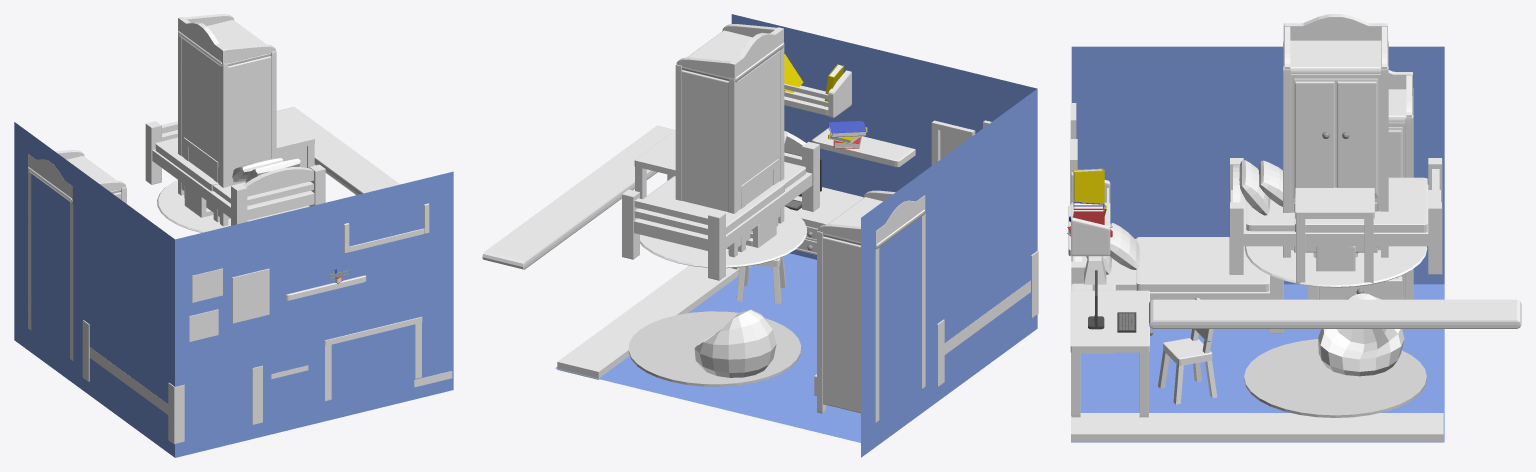
File: room.glb
The picture shows the model from 3 angles, left to right: view 1: azimuth 30°, elevation 25°; view 2: azimuth 150°, elevation 25°; view 3: azimuth 270°, elevation 25°; orthographic projection. The views are drawn at different scales.
Parts seen in each view (by area): view 1: Wall, Wardrobe, Bed, Wardrobe 1, Wood floor, Bed 1, Table, Picture 1.001, Carpet, Table 1, Picture 2.001, Wall bookshelf.001 (+3 smaller); view 2: Wall, Wardrobe, Floor, Wardrobe 1, Bed, Wood floor, Carpet 1, Wood floor 1, Seat 1, Carpet, Bed 1, Table (+7 smaller); view 3: Wall, Wardrobe, Floor, Bed, Wood floor, Wood floor 1, Bed 1, Carpet 1, Table 1, Wardrobe 1, Carpet, Table (+7 smaller).
Boxes of the visible parts, x1,y1,x2,y2 form: Wall: [14, 122, 453, 457]; Wardrobe: [178, 14, 276, 226]; Bed: [145, 121, 325, 225]; Wardrobe 1: [28, 150, 126, 360]; Wood floor: [276, 107, 400, 195]; Bed 1: [82, 320, 262, 444]; Table: [184, 114, 314, 222]; Picture 1.001: [232, 268, 269, 323]; Carpet: [157, 180, 309, 232]; Table 1: [324, 316, 422, 401]; Picture 2.001: [192, 268, 222, 302]; Wall bookshelf.001: [344, 203, 429, 253]; Wall: [731, 14, 1037, 457]; Wardrobe: [675, 24, 784, 257]; Floor: [555, 253, 860, 442]; Wardrobe 1: [814, 190, 925, 422]; Bed: [622, 131, 819, 280]; Wood floor: [482, 125, 675, 269]; Carpet 1: [628, 311, 801, 386]; Wood floor 1: [557, 265, 752, 379]; Seat 1: [694, 309, 776, 377]; Carpet: [640, 206, 806, 268]; Bed 1: [937, 250, 1038, 386]; Table: [634, 133, 778, 252]; Wall: [1071, 46, 1444, 284]; Wardrobe: [1283, 14, 1388, 257]; Floor: [1071, 284, 1444, 442]; Bed: [1229, 158, 1442, 274]; Wood floor: [1149, 299, 1521, 328]; Wood floor 1: [1071, 413, 1443, 442]; Bed 1: [1071, 223, 1283, 333]; Carpet 1: [1244, 339, 1426, 417]; Table 1: [1070, 290, 1153, 417]; Wardrobe 1: [1308, 70, 1413, 299]; Carpet: [1244, 246, 1427, 287]; Table: [1295, 187, 1374, 284].
Bounding box in the file's own units: 8.99 × 8.63 × 9.73.
